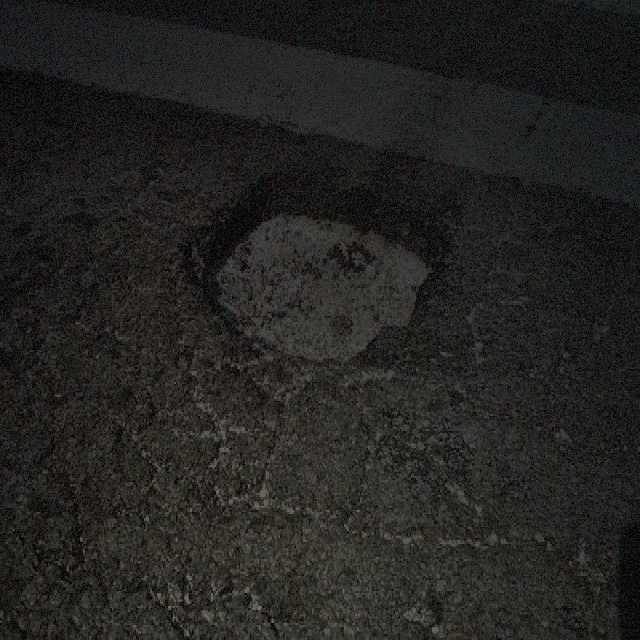pothole: (181, 168, 451, 378)
